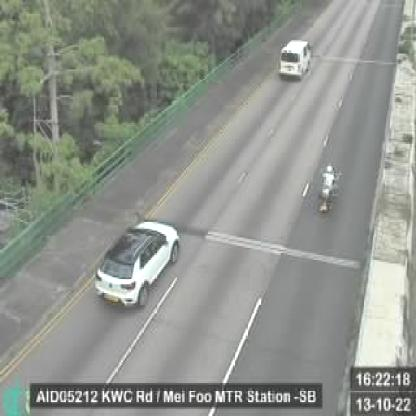Car: (93, 217, 184, 309), (278, 38, 312, 78)
